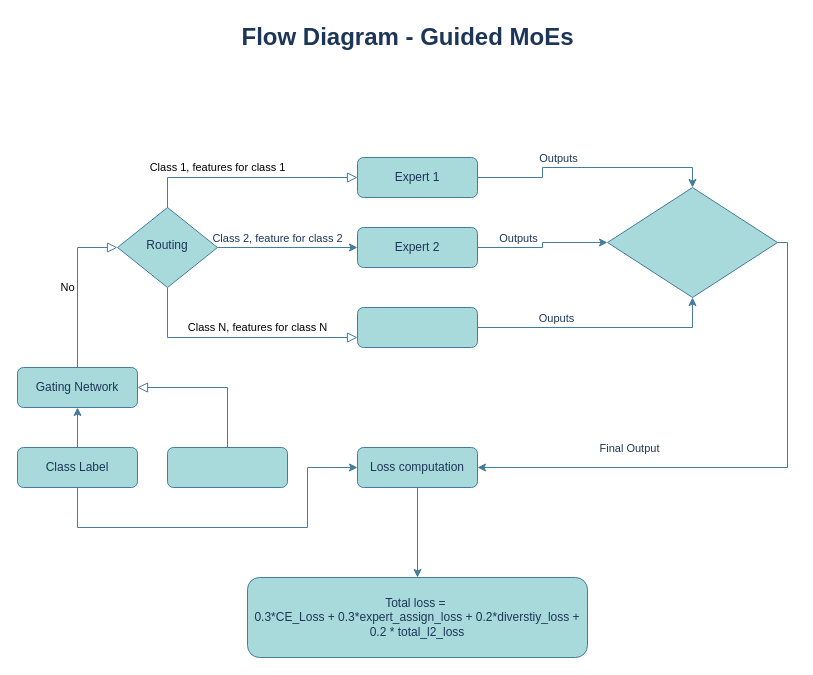
Image size: 813x675. Some labels were removed from this diagram. Here are the shapes that lost their labels. From the top down, the centre of each, then its label:
At [692,242]: "Combination Layer".
At [417,327]: "Expert N".
At [227,467]: "Input features".
